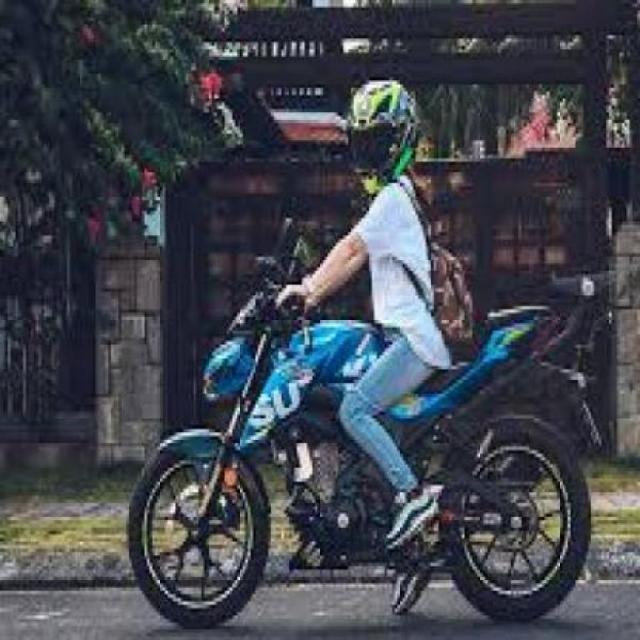Helmet: (335, 74, 433, 191)
